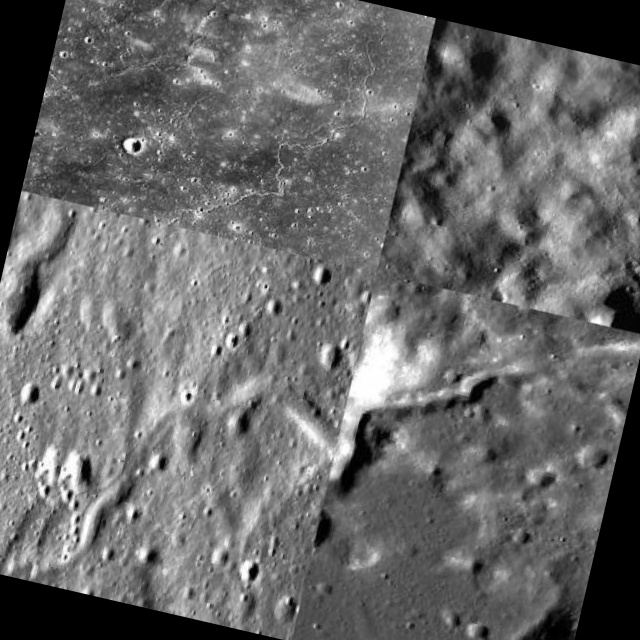crater: (0, 0, 328, 260), (42, 383, 363, 639), (364, 324, 514, 638), (364, 34, 484, 260), (0, 197, 86, 258)
